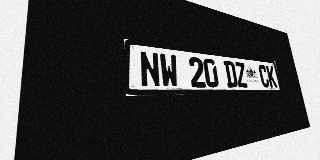0: (203, 58, 219, 87)
2: (188, 56, 206, 87)
C: (258, 64, 270, 87)
D: (223, 60, 238, 87)
K: (266, 65, 277, 87)
N: (139, 51, 161, 87)
W: (159, 53, 179, 87)
Z: (234, 62, 248, 87)
